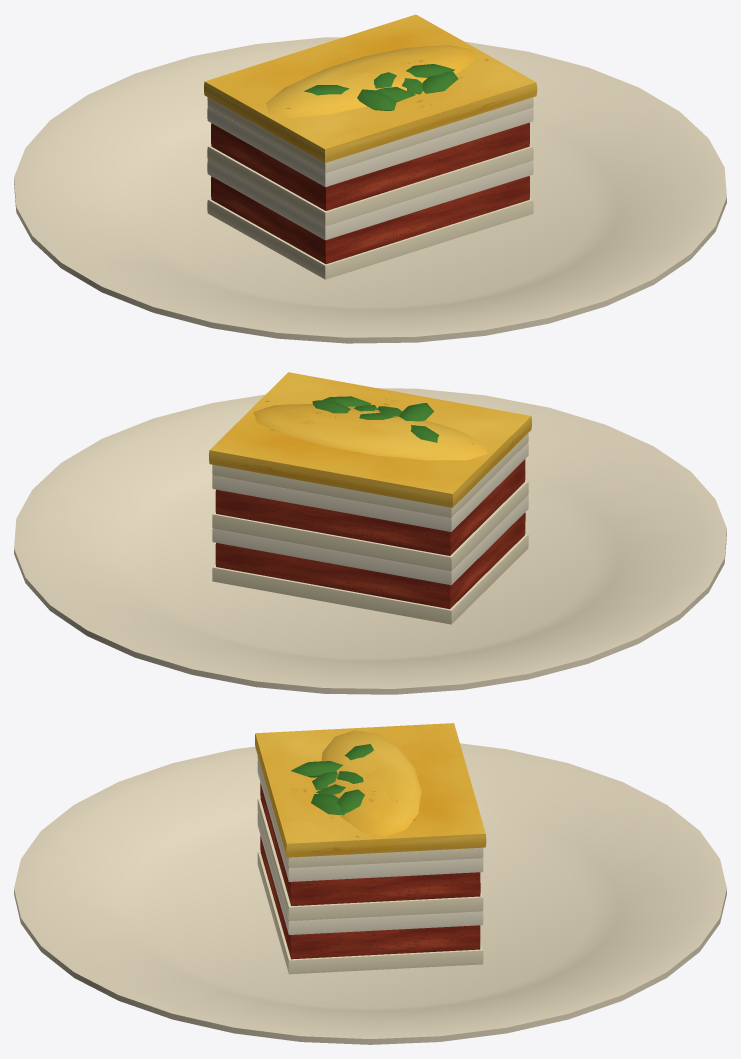
Rendered from meal_lasagna_slice.glb.
3 renders of one model, top to bottom at view 1: azimuth 30°, elevation 25°; view 2: azimuth 150°, elevation 25°; view 3: azimuth 270°, elevation 25°, orthographic.
Visible parts, largest first — view 1: meal_lasagna_slice; view 2: meal_lasagna_slice; view 3: meal_lasagna_slice.
Boxes of the visible parts, x1,y1,x2,y2 form: meal_lasagna_slice: (14,14,726,343); meal_lasagna_slice: (14,372,726,694); meal_lasagna_slice: (14,723,726,1044).
Size of the model in its own units: 0.28 by 0.0692 by 0.28.
6 materials, 2 textured.
